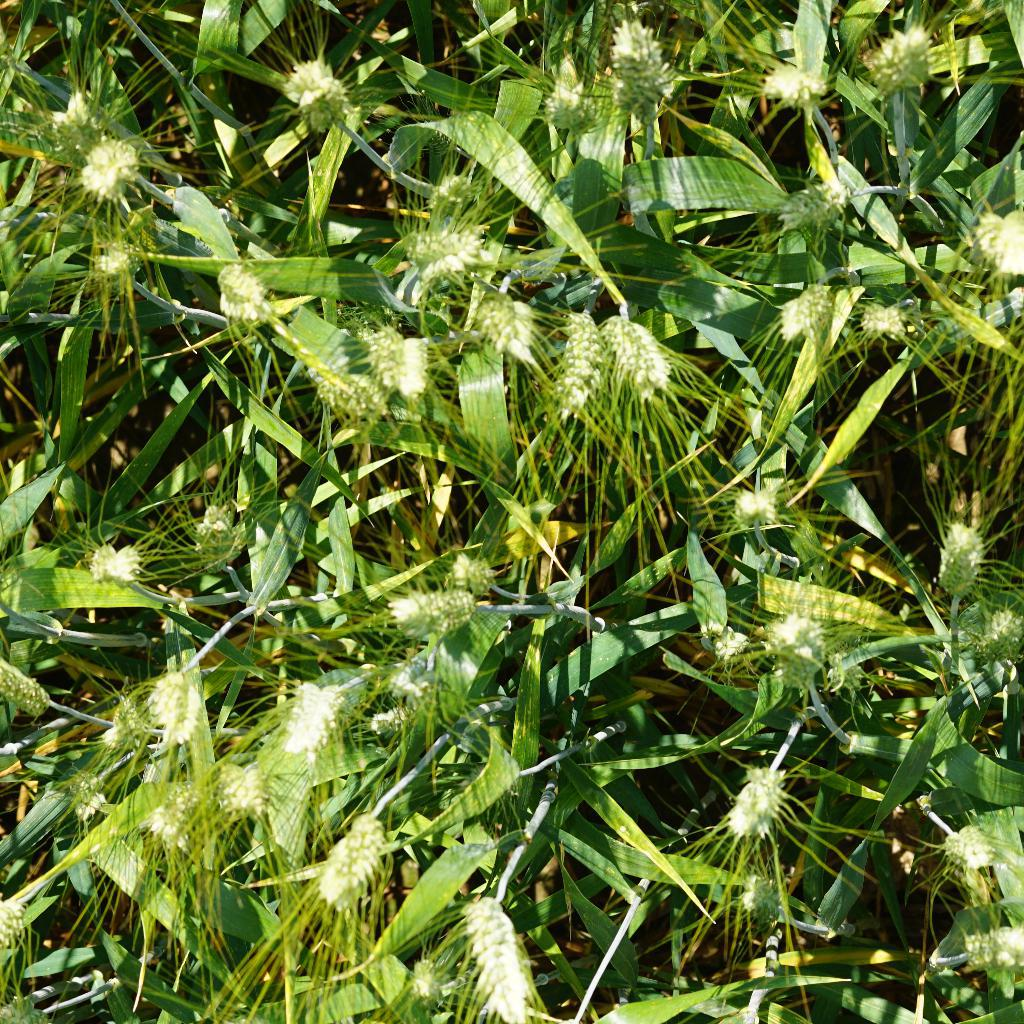0-0: (462, 884, 537, 1023), (299, 795, 392, 903), (587, 21, 675, 122), (277, 36, 372, 127), (856, 18, 952, 107), (380, 221, 516, 281), (758, 593, 832, 697), (542, 299, 610, 410), (595, 313, 681, 400), (133, 774, 216, 863), (274, 675, 350, 768), (427, 752, 533, 818), (920, 503, 990, 602), (191, 256, 294, 322), (772, 160, 855, 236), (739, 48, 833, 115), (718, 759, 792, 843), (67, 137, 153, 209), (718, 864, 796, 935), (961, 193, 1024, 279), (473, 288, 539, 370), (352, 310, 415, 395), (186, 503, 268, 568), (311, 367, 397, 425), (146, 664, 206, 747), (44, 83, 116, 152), (88, 224, 164, 288), (395, 579, 485, 632), (955, 908, 1024, 976), (859, 292, 937, 352), (404, 163, 482, 221), (955, 589, 1024, 654), (721, 477, 798, 535), (773, 280, 832, 351), (205, 759, 268, 822), (934, 817, 1004, 873), (0, 659, 62, 722), (73, 537, 148, 589), (529, 63, 587, 130), (359, 692, 434, 743), (52, 769, 111, 832), (384, 956, 444, 1015), (699, 608, 750, 675), (89, 692, 139, 759), (379, 651, 444, 699), (819, 641, 871, 699), (448, 555, 505, 601)
